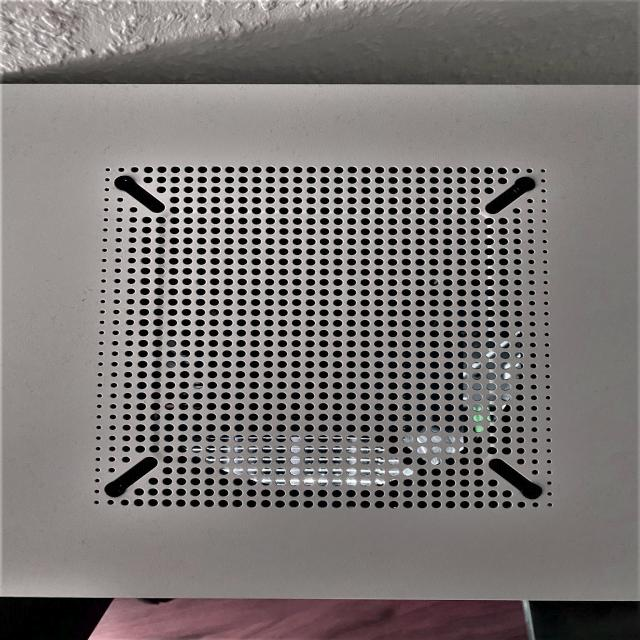PhillipsScrewHead: (513, 176, 537, 192), (114, 175, 134, 191)
